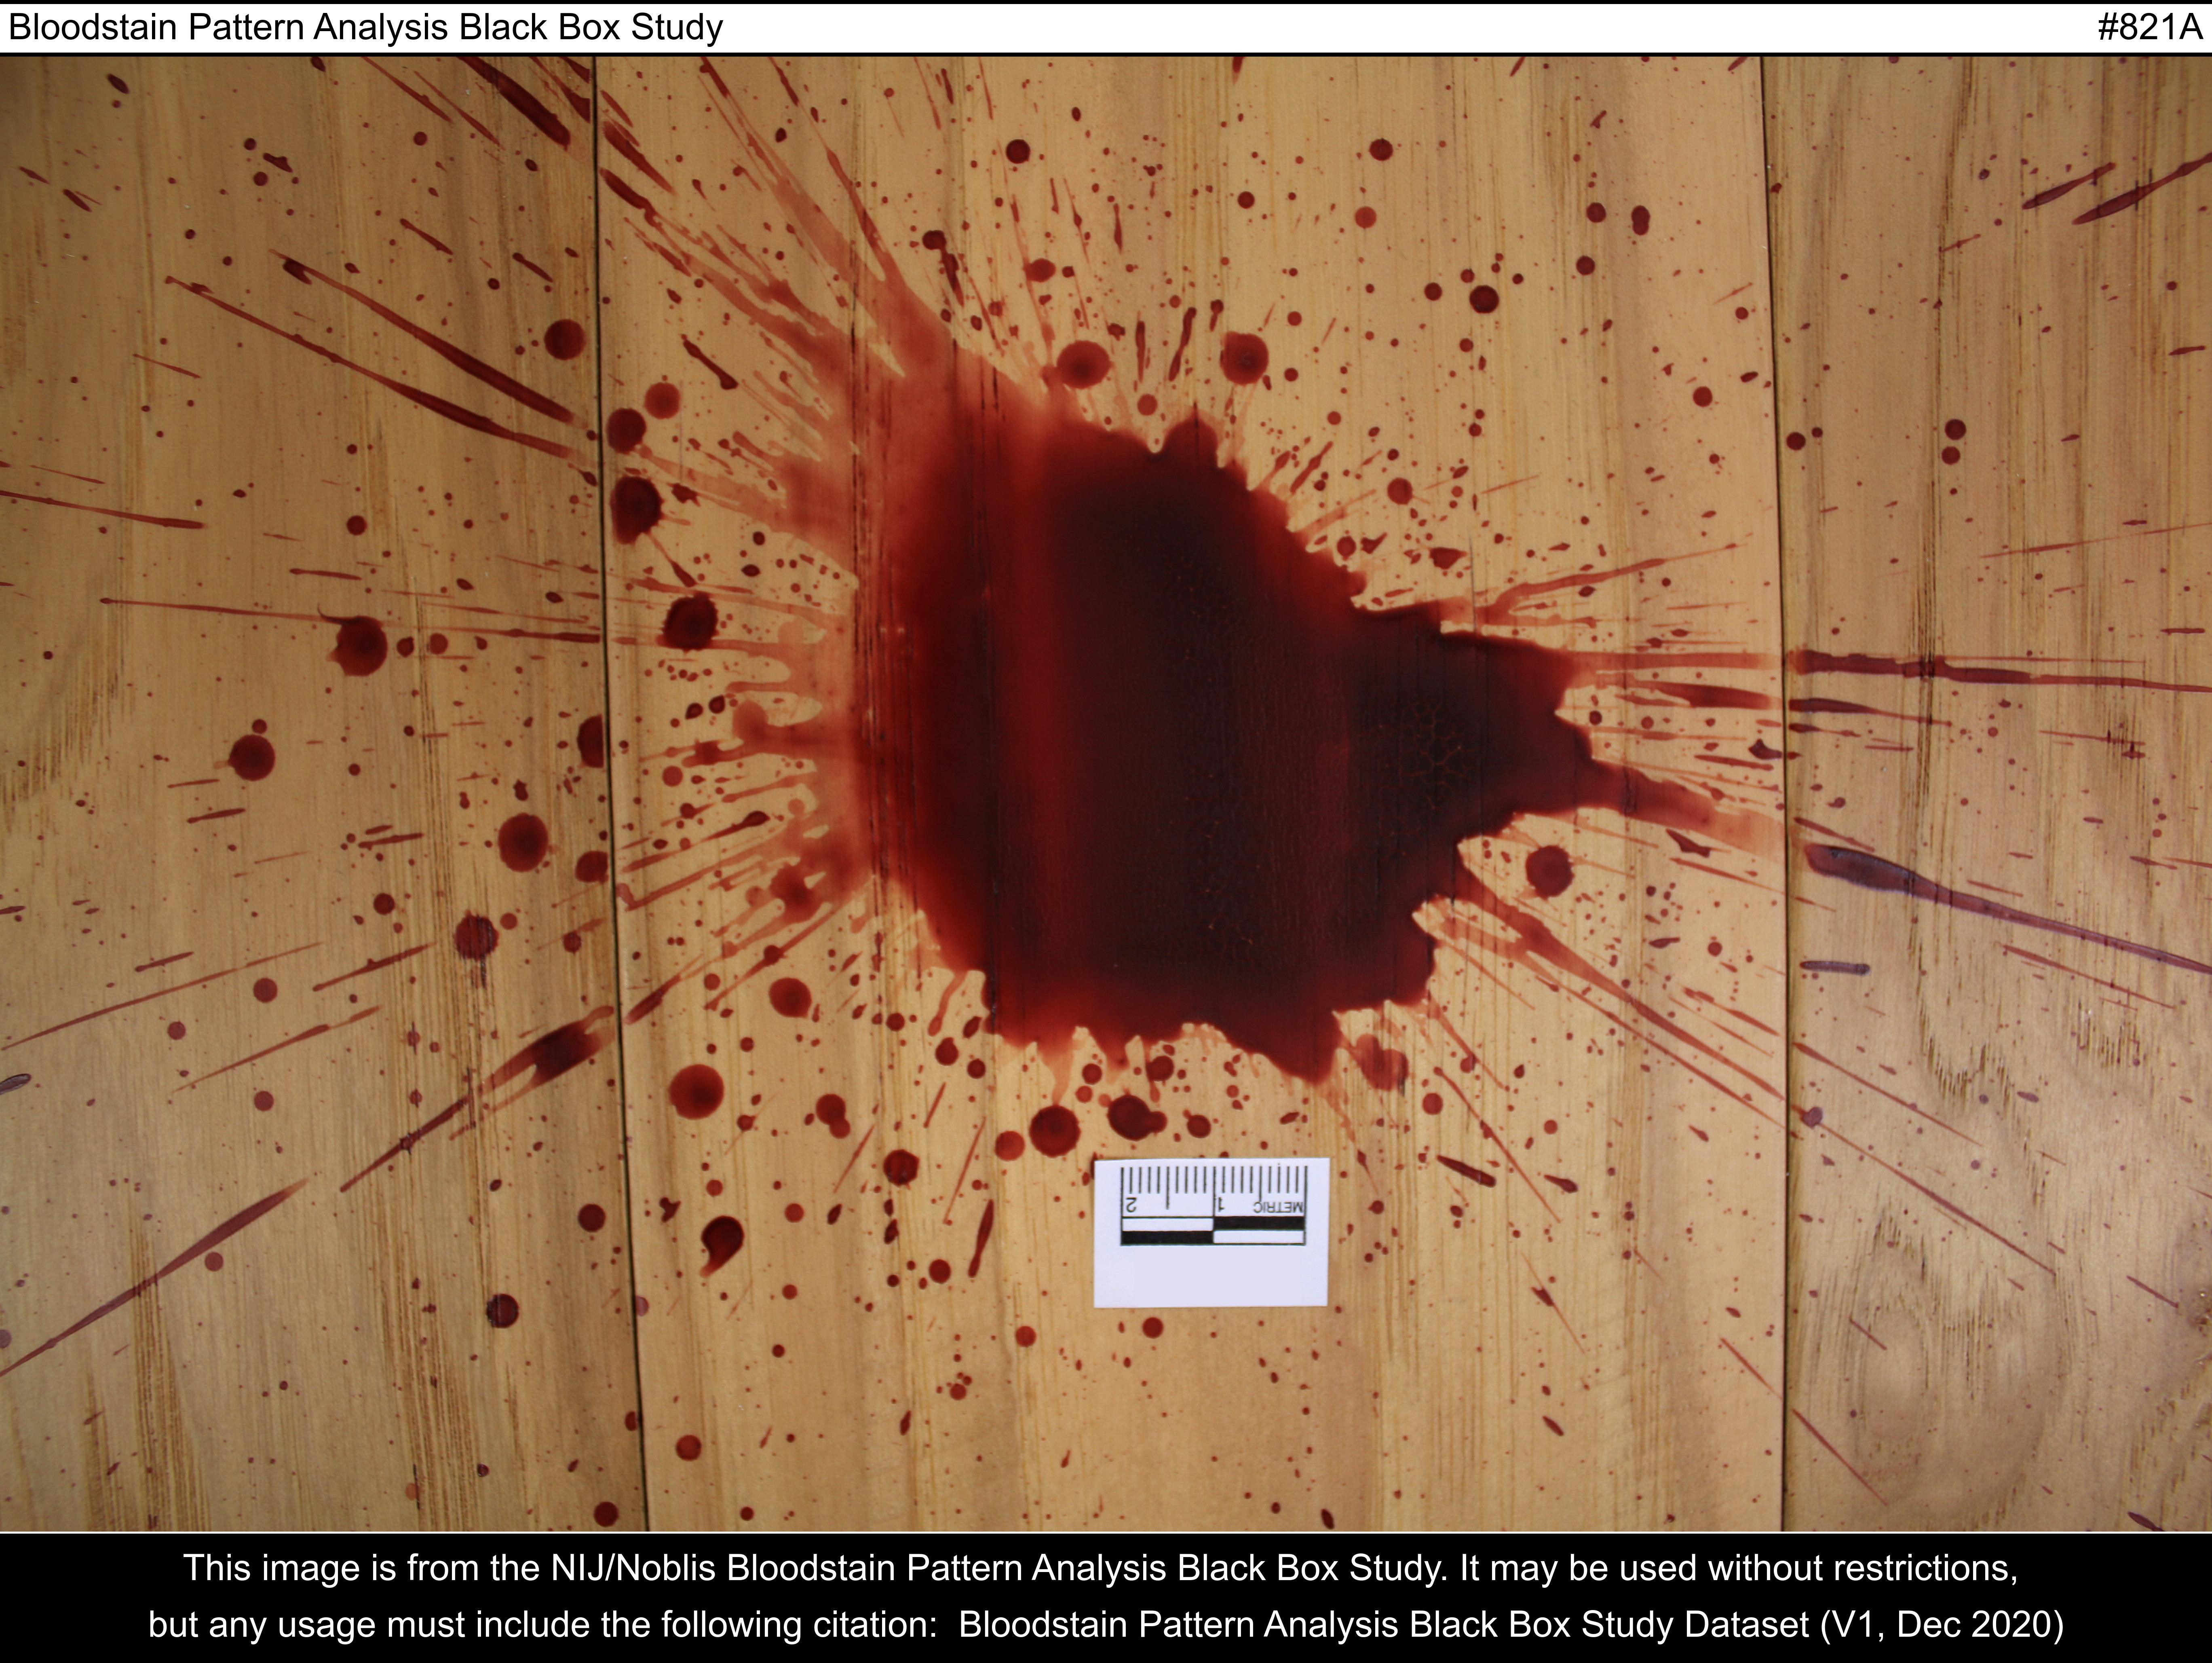Impact: (5, 54, 2212, 1532)
